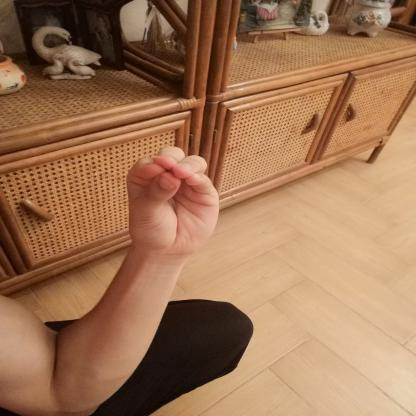HA: (107, 131, 240, 277)
